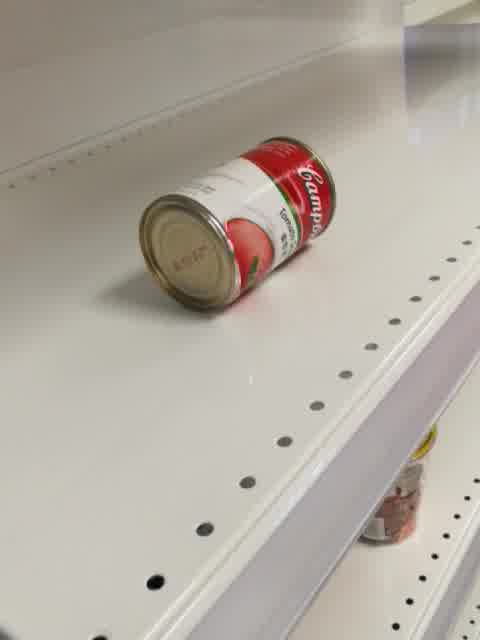tomatosoup: (135, 136, 337, 315)
